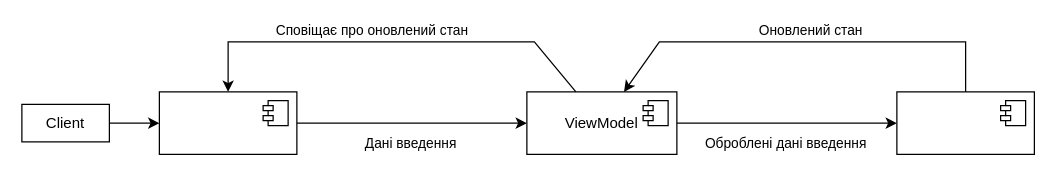
Image size: 1056x176. Some labels were removed from this diagram. Each missing label, with the centre of its shape:
Model: (x=965, y=122)
View: (x=227, y=122)
